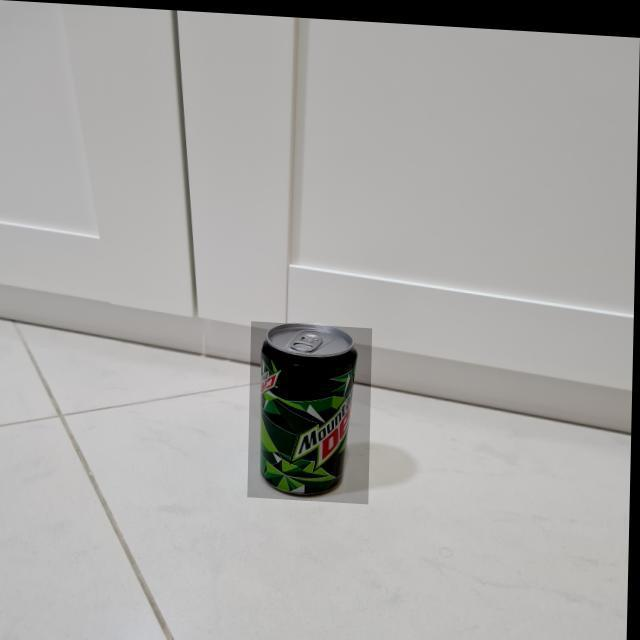trash: (255, 308, 363, 500)
